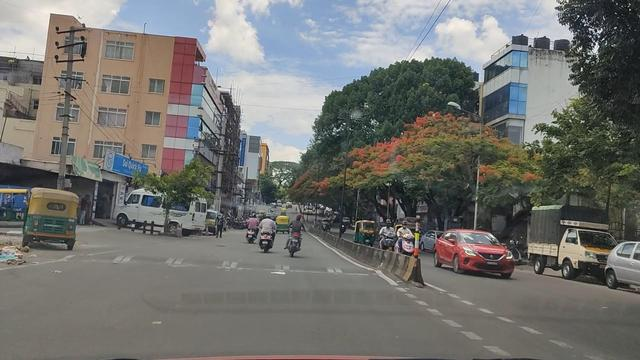SpeedBump: (67, 253, 376, 279)
